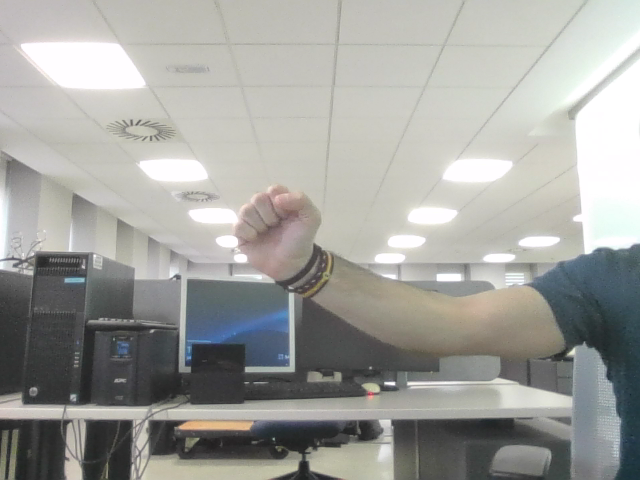Puño: (238, 194, 307, 240)
